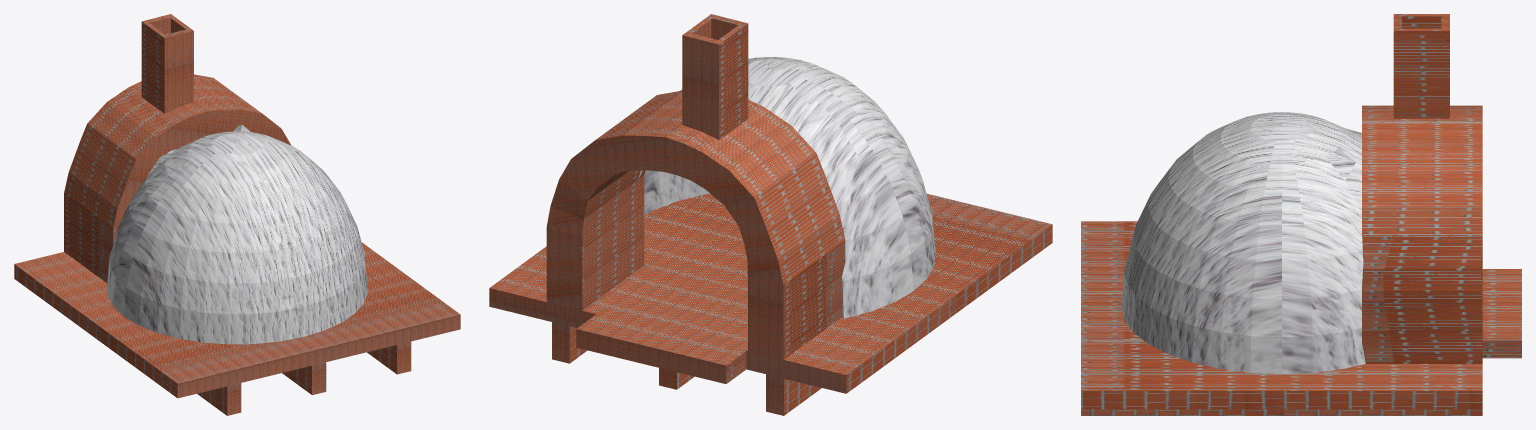
File: compositeField.fbx
The picture shows the model from 3 angles, left to right: view 1: azimuth 30°, elevation 25°; view 2: azimuth 150°, elevation 25°; view 3: azimuth 270°, elevation 25°; orthographic projection. The views are drawn at different scales.
Visible parts, largest first — view 1: 立方體.001, 立方體.005; view 2: 立方體.001, 立方體.005; view 3: 立方體.001, 立方體.005.
Boxes of the visible parts, x1,y1,x2,y2 form: 立方體.001: (14, 14, 460, 415); 立方體.005: (107, 124, 367, 344); 立方體.001: (489, 14, 1052, 415); 立方體.005: (638, 57, 935, 318); 立方體.001: (1081, 14, 1521, 415); 立方體.005: (1121, 112, 1365, 373).
Bounding box in the file's own units: 200 × 182 × 220.
Materials: 2 (2 with a texture image).
